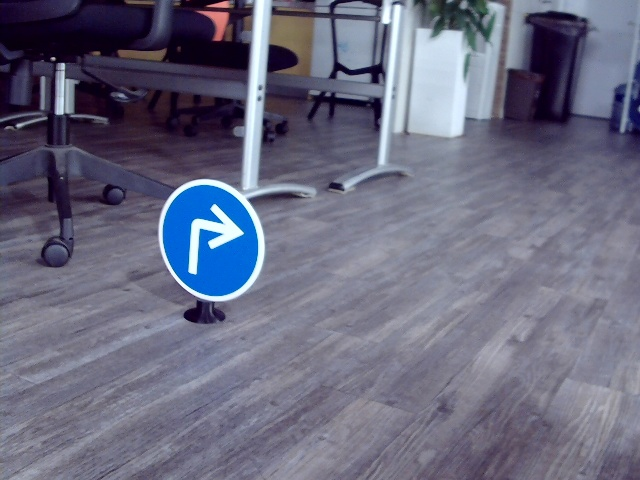turn_right: (182, 204, 242, 275)
